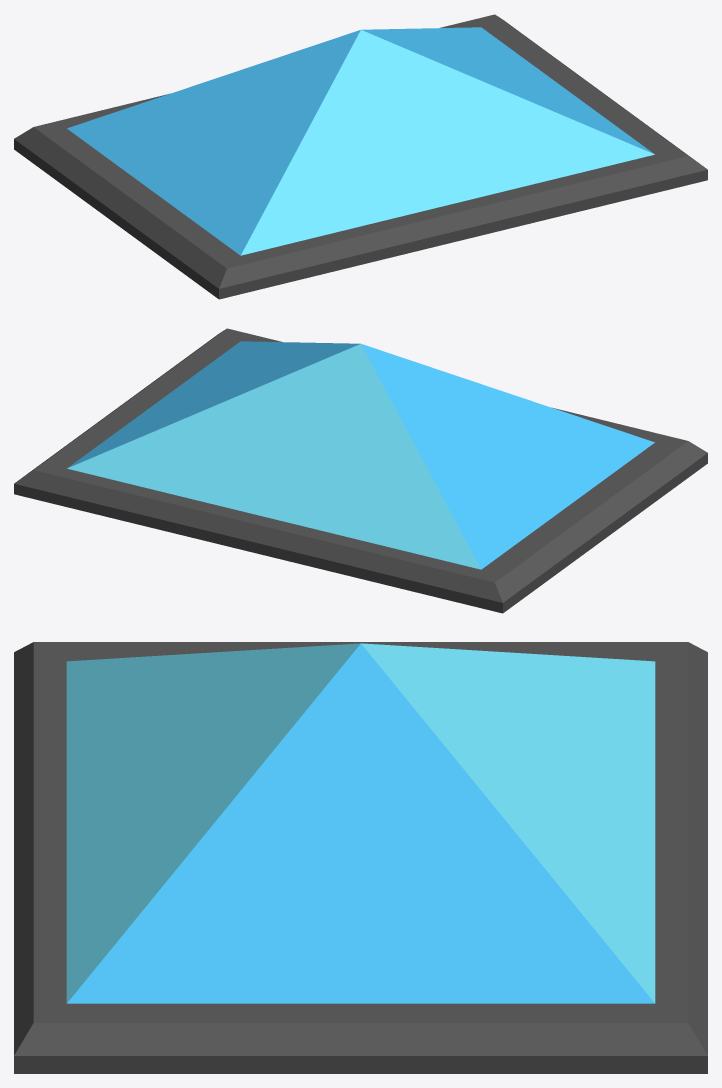
Rendered from Prop_RoofWindow_01.fbx.
3 views of the same model, one above another, from view 1: azimuth 30°, elevation 25°; view 2: azimuth 150°, elevation 25°; view 3: azimuth 270°, elevation 25° (orthographic). The views are drawn at different scales.
Parts seen in each view (by area): view 1: Prop_RoofWindow_01; view 2: Prop_RoofWindow_01; view 3: Prop_RoofWindow_01.
Boxes of the visible parts, x1,y1,x2,y2 form: Prop_RoofWindow_01: [14, 14, 707, 299]; Prop_RoofWindow_01: [14, 328, 707, 613]; Prop_RoofWindow_01: [14, 642, 707, 1073].
Bounding box in the file's own units: 138 × 36.36 × 100.
